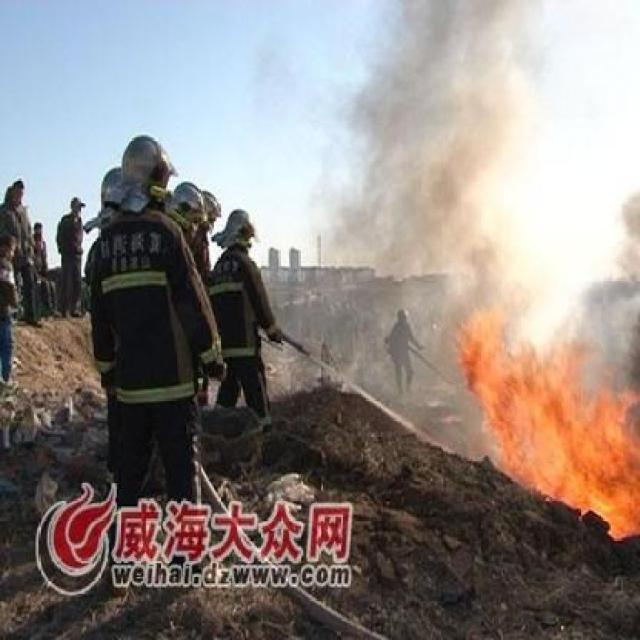Fire: (462, 310, 640, 551)
Smoke: (304, 21, 540, 302)
